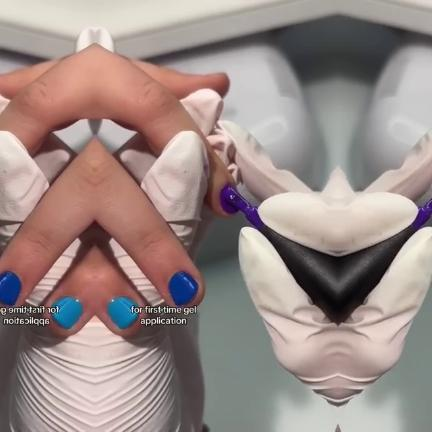Nail: (168, 270, 198, 306), (106, 296, 137, 329), (51, 296, 82, 329), (0, 270, 20, 306), (219, 187, 238, 215)
